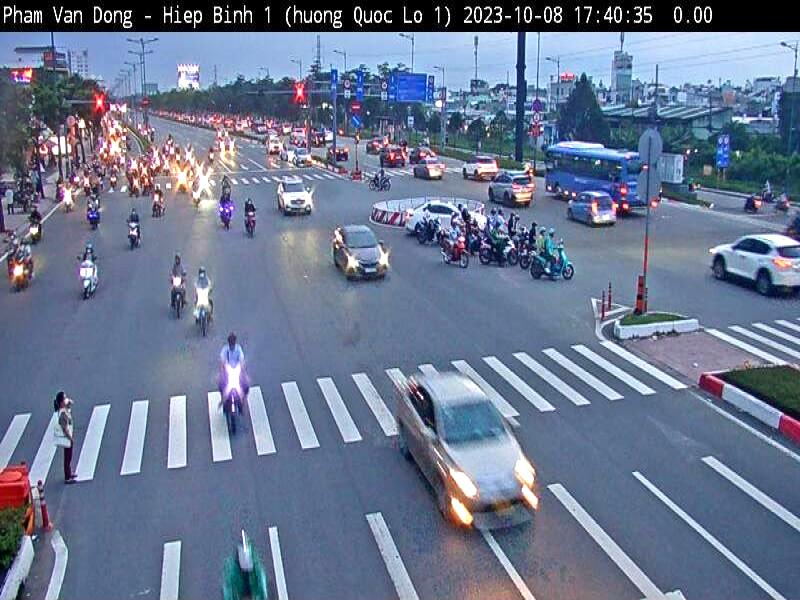bus: (542, 132, 646, 222)
car: (388, 355, 548, 562), (704, 222, 800, 311), (330, 218, 397, 316), (399, 198, 496, 242), (268, 168, 323, 236), (564, 188, 618, 237), (416, 147, 464, 199), (486, 164, 539, 205), (461, 150, 500, 184)
